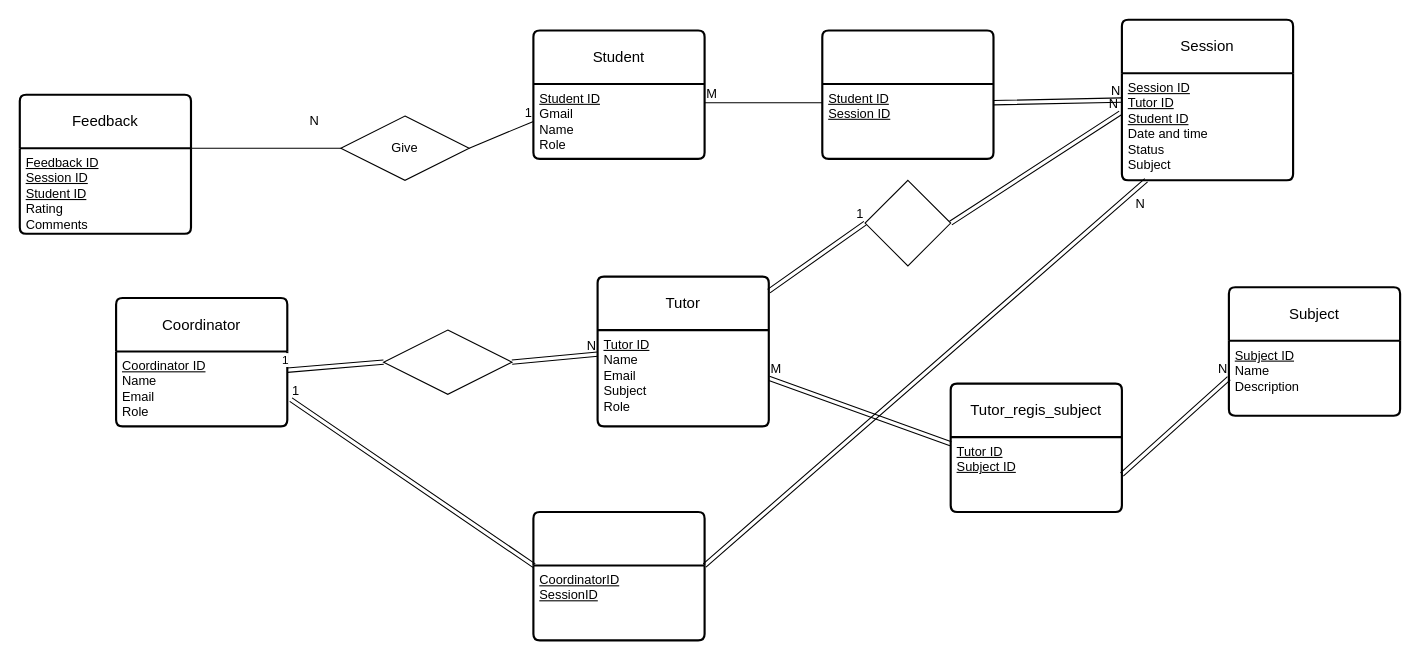
Some shapes in this 1419 by 659 pixel diagram are drawn without their labels. The shapes that lost their labels are listed below. From the top down, each one's box as (x1, y1, x2, y2) in pixels, then its label:
(821, 29, 994, 159): Student_regis_session
(864, 179, 951, 266): Host
(383, 329, 512, 394): Manage
(532, 510, 705, 641): Coor_manage_session
